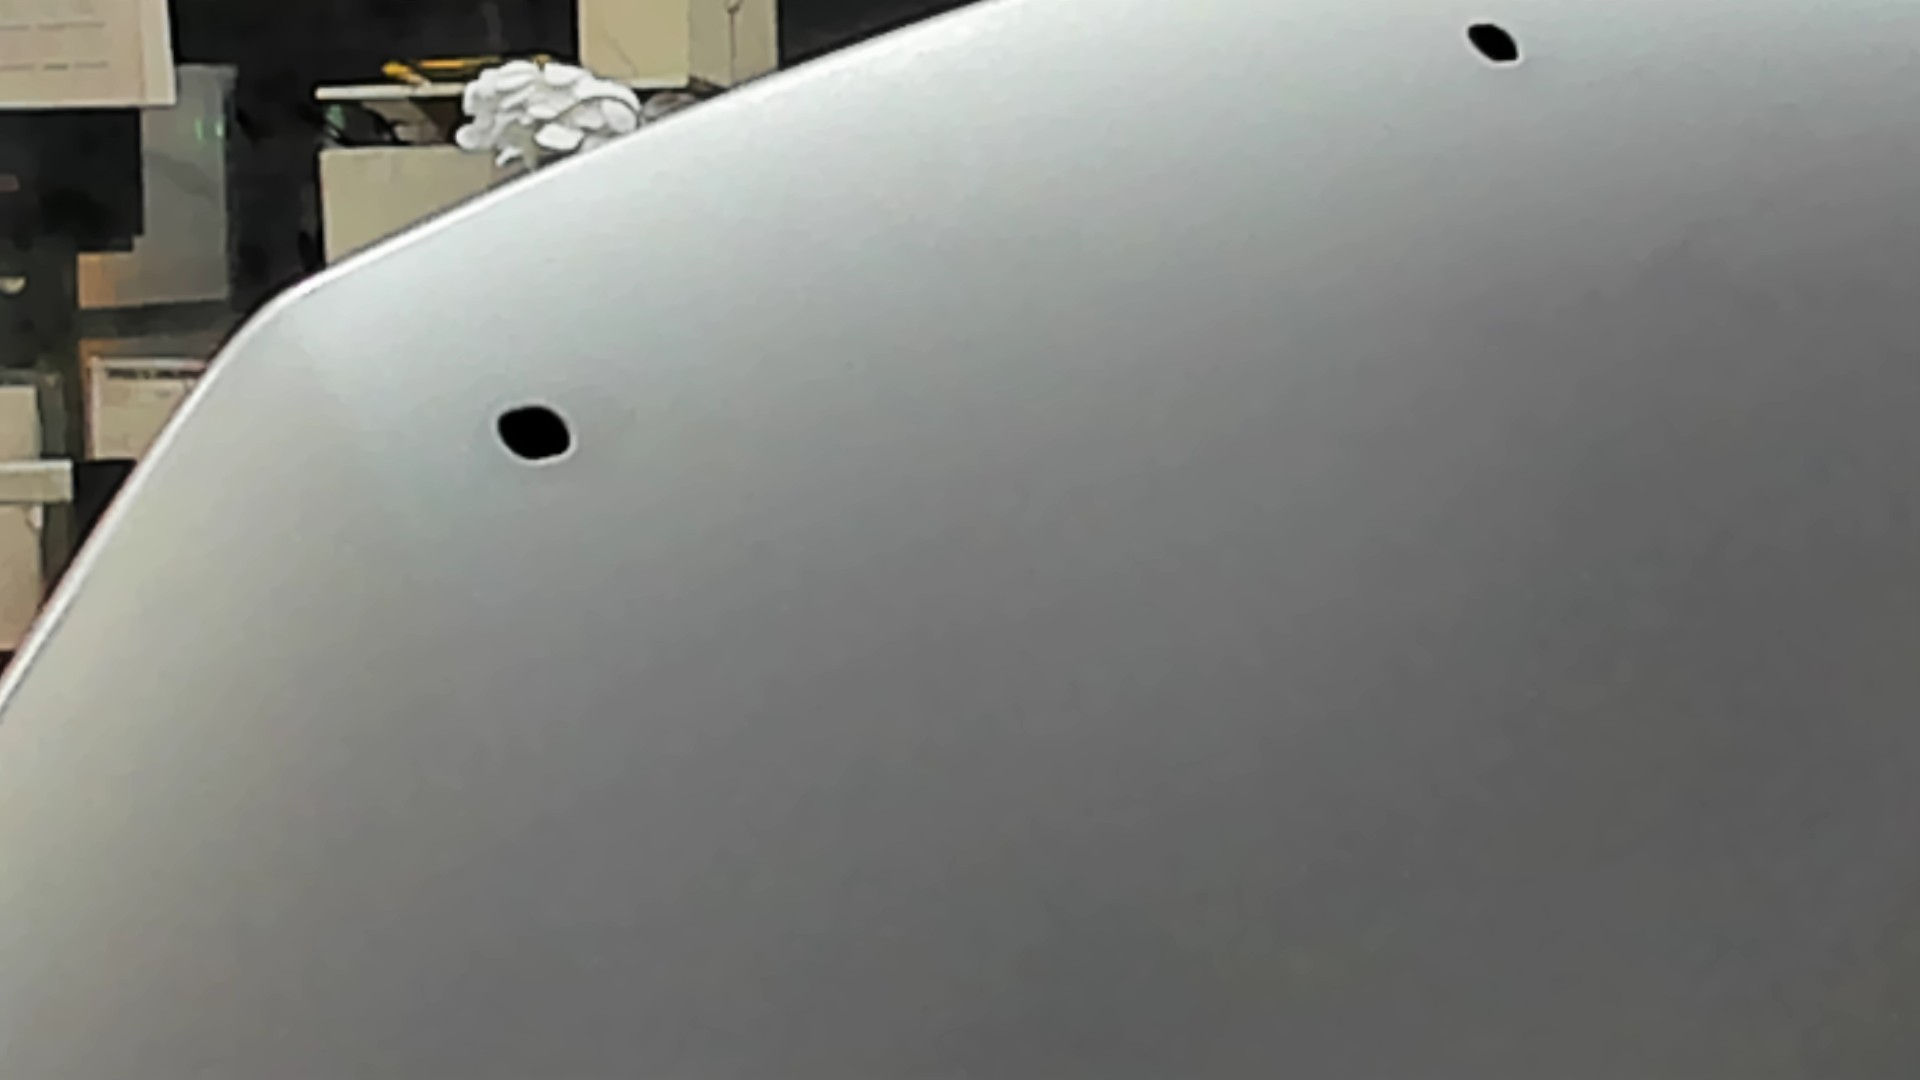Agujero: (487, 397, 583, 472), (1455, 15, 1534, 74)
